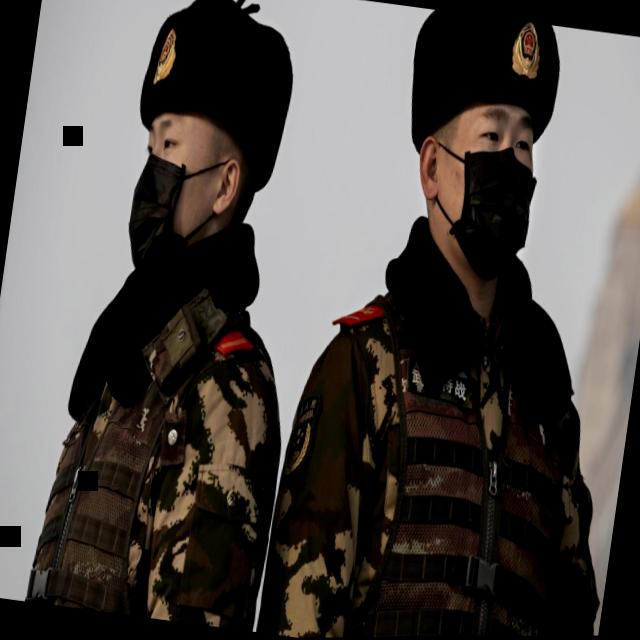Mask: (373, 7, 596, 308), (101, 2, 318, 296)
